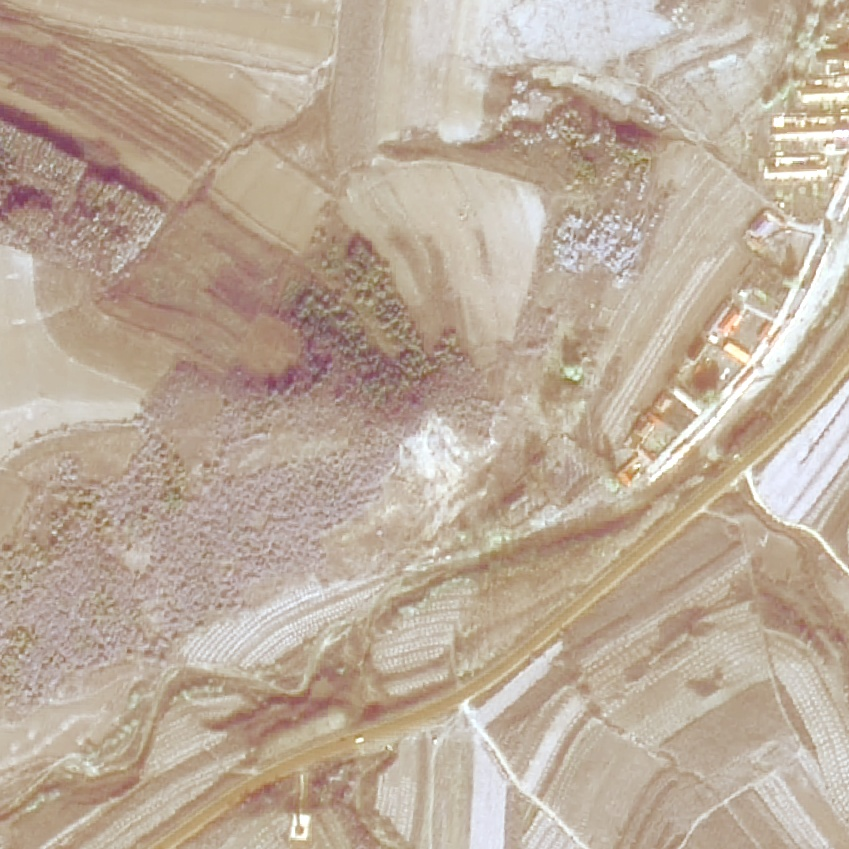slope: (399, 413, 501, 525)
